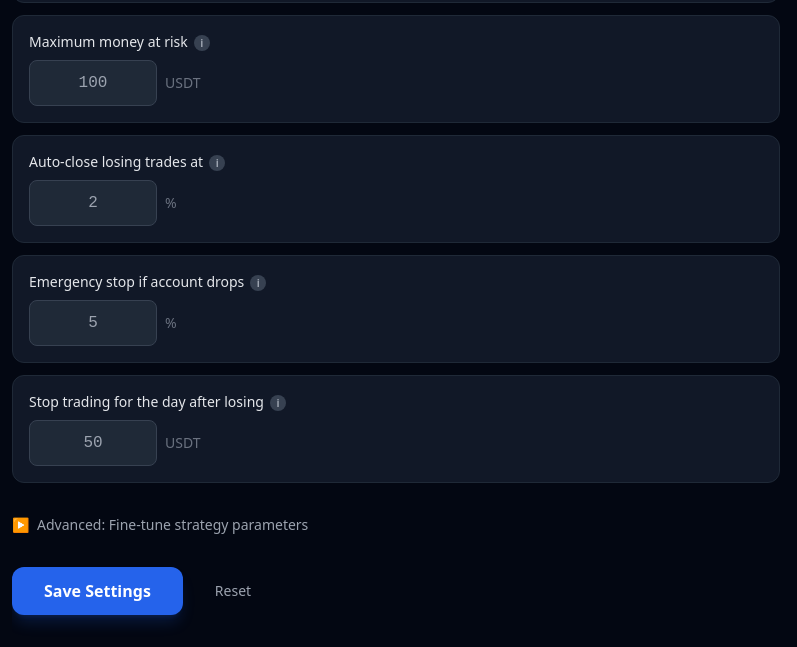
Scenario: SettingsPage › renders strategy params dynamically based on selected strategy
This screenshot has width=797, height=647.
(page scrolled)
Click the button "▶ Advanced: Fine-tune strategy parameters" at (160, 525), box [12,515,308,535]
(page scrolled)
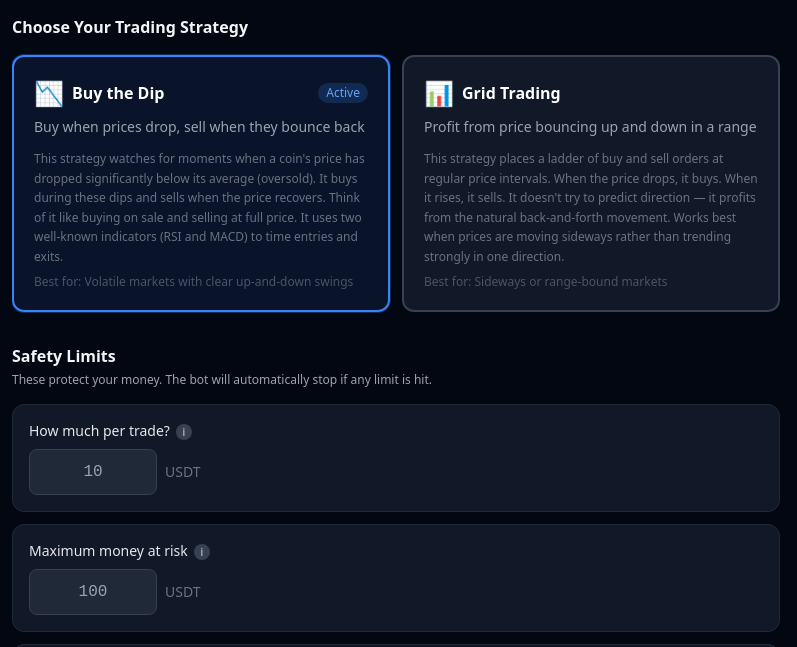
Click the button that starts with "Grid Trading" at (591, 184), box [402,55,780,312]
(page scrolled)
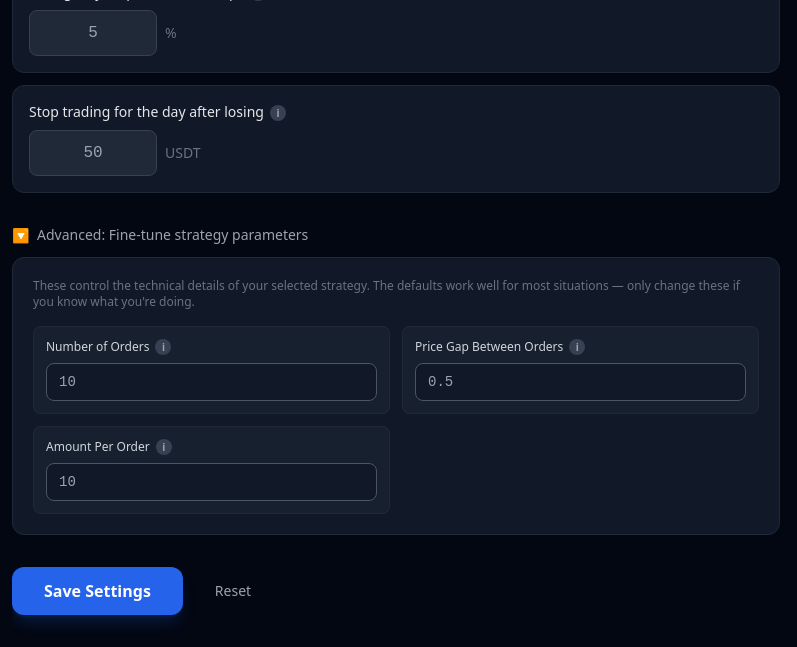
Check: the field with test id "input-num_levels" is shown, box [46,363,377,401]
